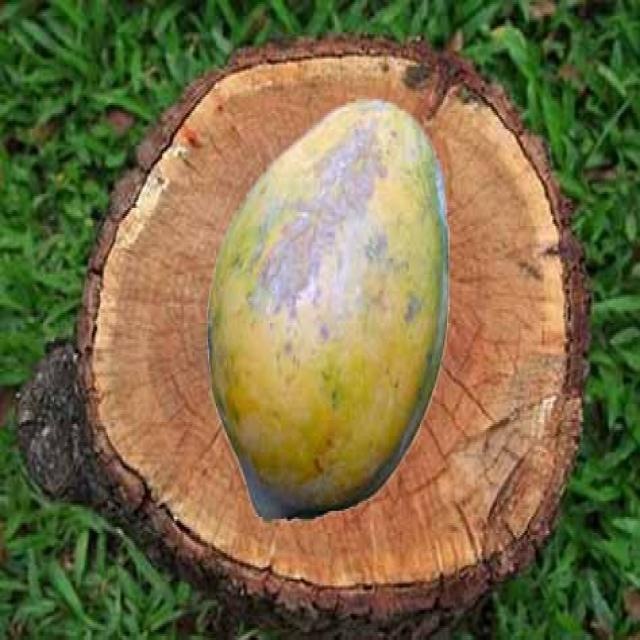Pepaya rippen: (204, 91, 454, 523)
